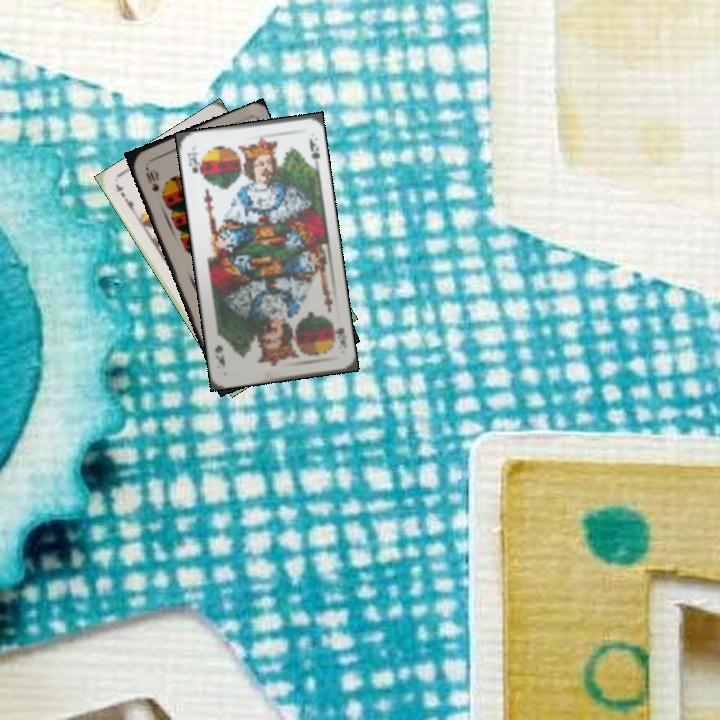E7: (111, 180, 139, 217)
S10: (141, 163, 162, 195)
SK: (327, 317, 350, 351), (183, 148, 204, 177)
